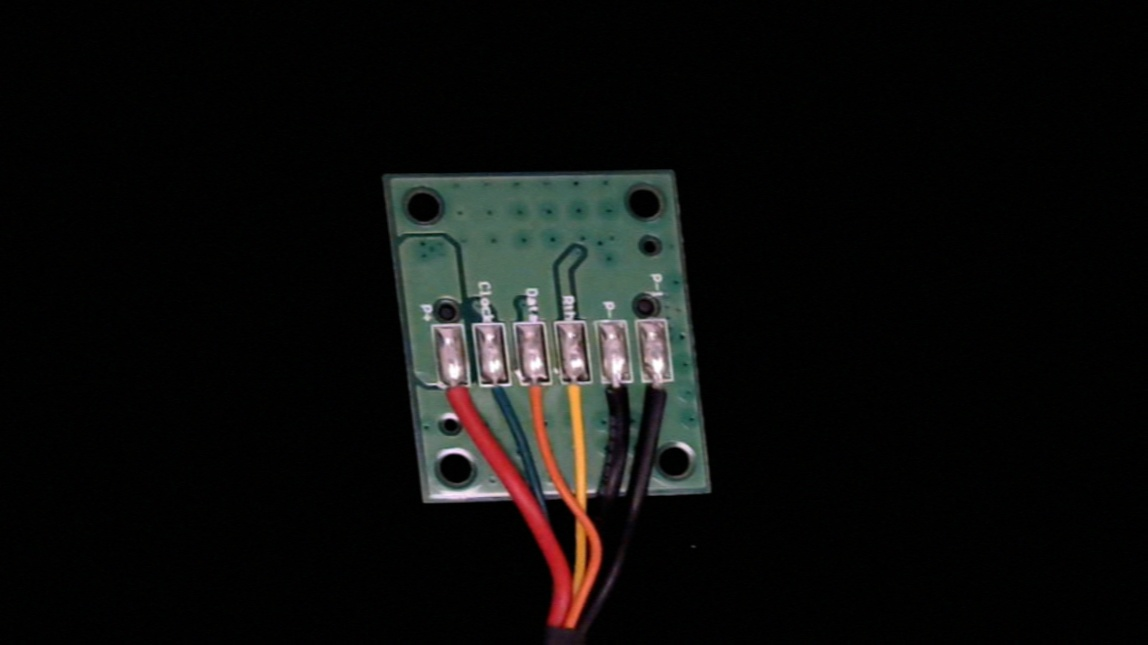Black: (598, 368, 640, 440)
Black1: (642, 369, 683, 435)
Green: (480, 368, 519, 425)
Orange: (519, 369, 560, 440)
Red: (435, 370, 478, 440)
Yellow: (557, 369, 600, 442)
